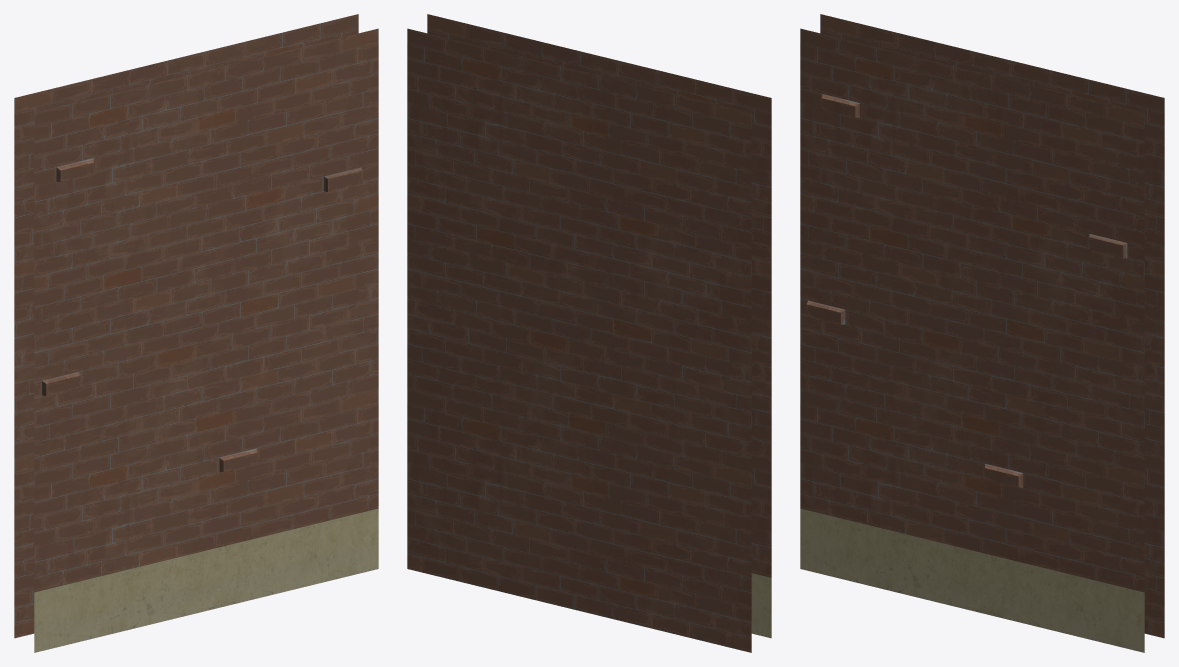
File: Brick_BottomTrim.gltf
3 renders of one model, left to right at view 1: azimuth 30°, elevation 25°; view 2: azimuth 150°, elevation 25°; view 3: azimuth 330°, elevation 25°, orthographic.
Visible parts, largest first — view 1: Brick_BottomTrim; view 2: Brick_BottomTrim; view 3: Brick_BottomTrim.
Boxes of the visible parts, bbox=[...] form: Brick_BottomTrim: bbox=[14, 14, 378, 652]; Brick_BottomTrim: bbox=[407, 14, 771, 652]; Brick_BottomTrim: bbox=[800, 14, 1164, 652].
Bounding box in the file's own units: 2 × 3 × 0.229.
3 materials, 3 textured.
